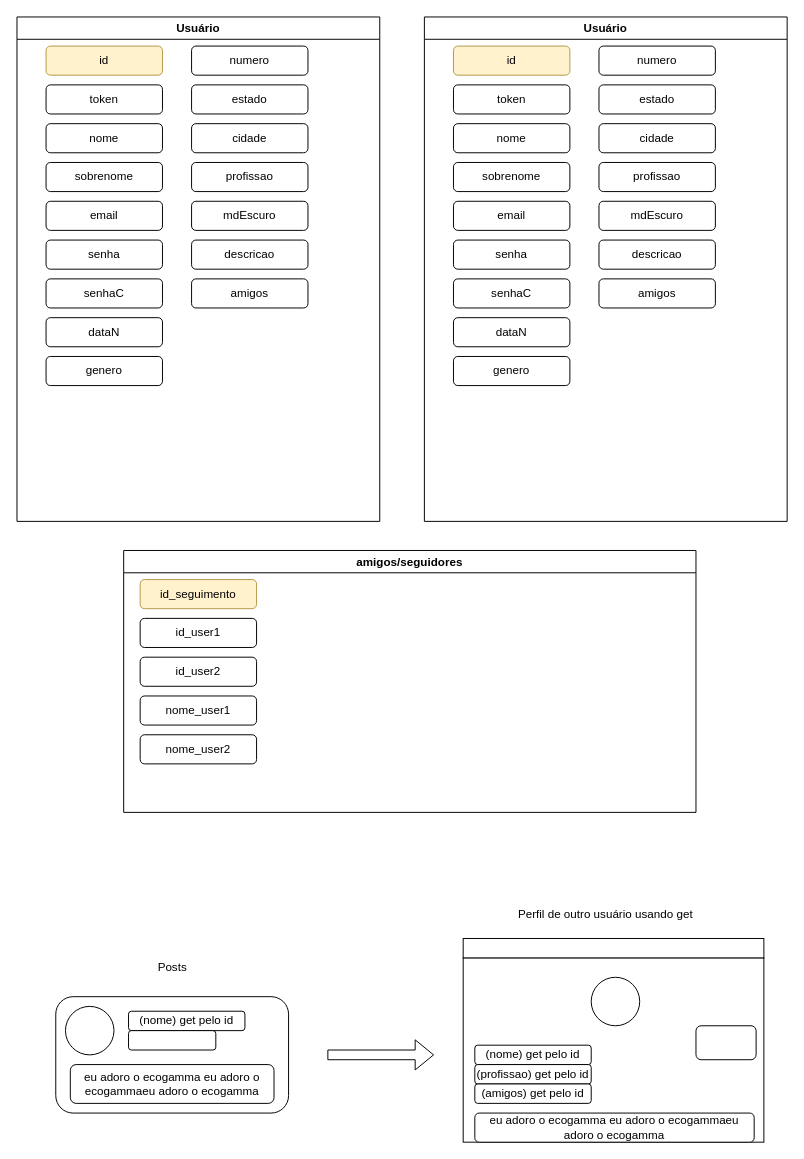
Image size: 804x1159. Some labels were removed from this diagram. The centre of each missing label's shape, as x and y in pixels:
"Profissão" goes at (x=172, y=1040).
"Seguir" goes at (x=725, y=1042).
"www.ecogamma.com/?13" goes at (x=613, y=948).
